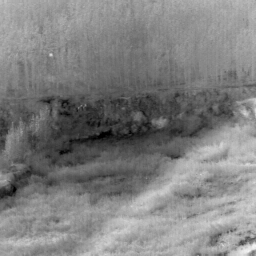Target: (48, 52, 54, 58)
